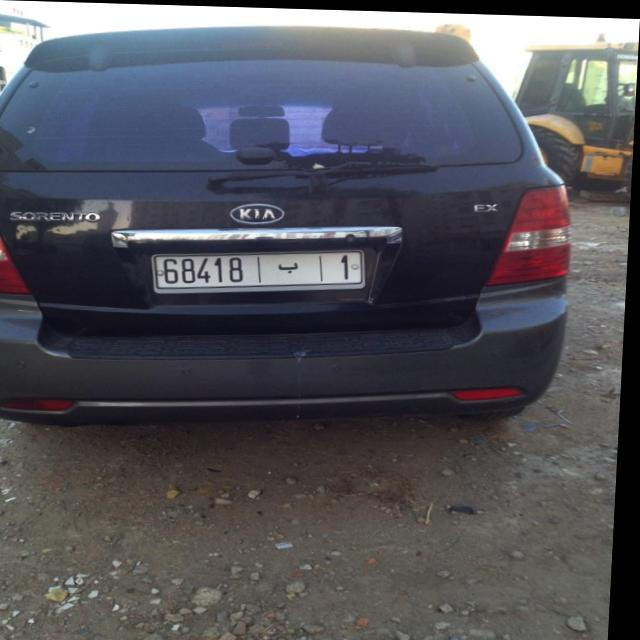License-Plate: (155, 248, 369, 292)
